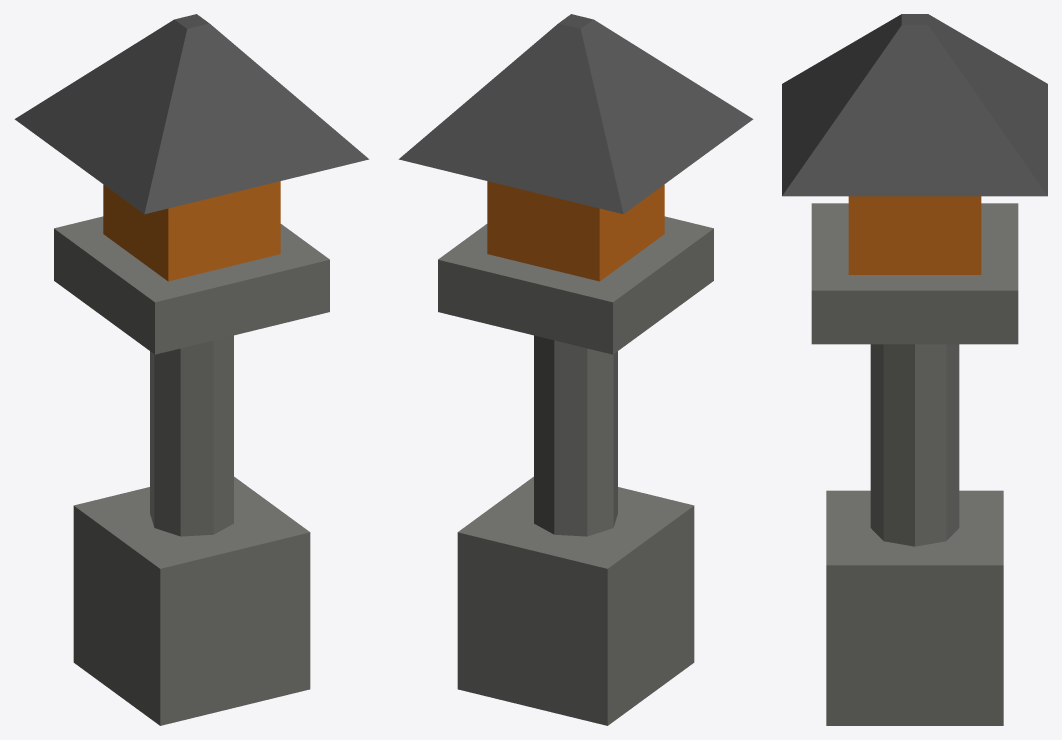
Rendered from SM_GZ_lantern.fbx.
3 views of the same model, side by side, from view 1: azimuth 30°, elevation 25°; view 2: azimuth 150°, elevation 25°; view 3: azimuth 270°, elevation 25° (orthographic). The views are drawn at different scales.
Parts seen in each view (by area): view 1: SM_GZ_lantern; view 2: SM_GZ_lantern; view 3: SM_GZ_lantern.
Boxes of the visible parts, box(x1,y1,x2,y2) form: SM_GZ_lantern: box(14, 14, 369, 725); SM_GZ_lantern: box(398, 14, 753, 725); SM_GZ_lantern: box(782, 14, 1047, 725).
Size of the model in its own units: 90 by 250 by 90.
